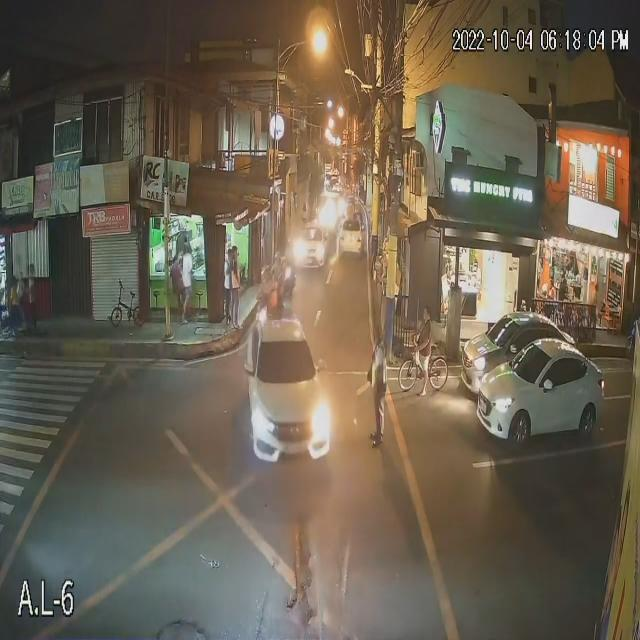motorcycle: (255, 295, 294, 320)
rider: (264, 274, 276, 308)
